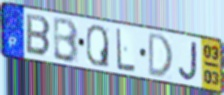B: (52, 15, 80, 65), (25, 12, 53, 58)
D: (147, 31, 174, 79)
J: (177, 40, 199, 83)
L: (116, 27, 137, 74)
Q: (85, 24, 111, 70)
